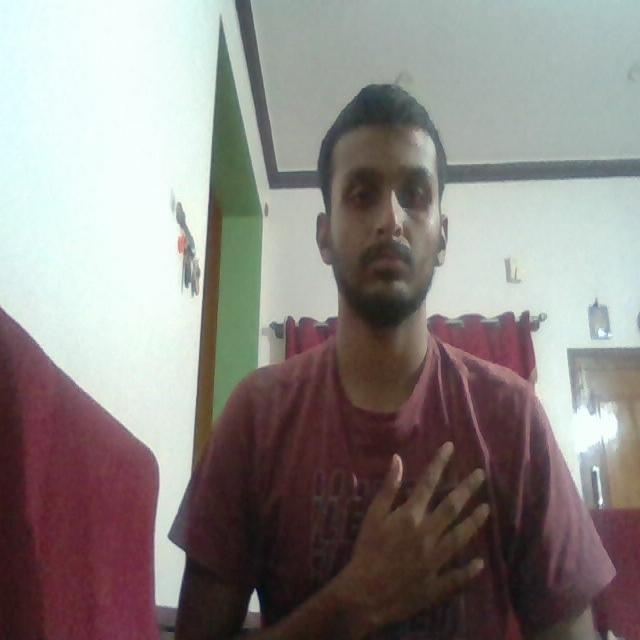please: (339, 431, 496, 623)
